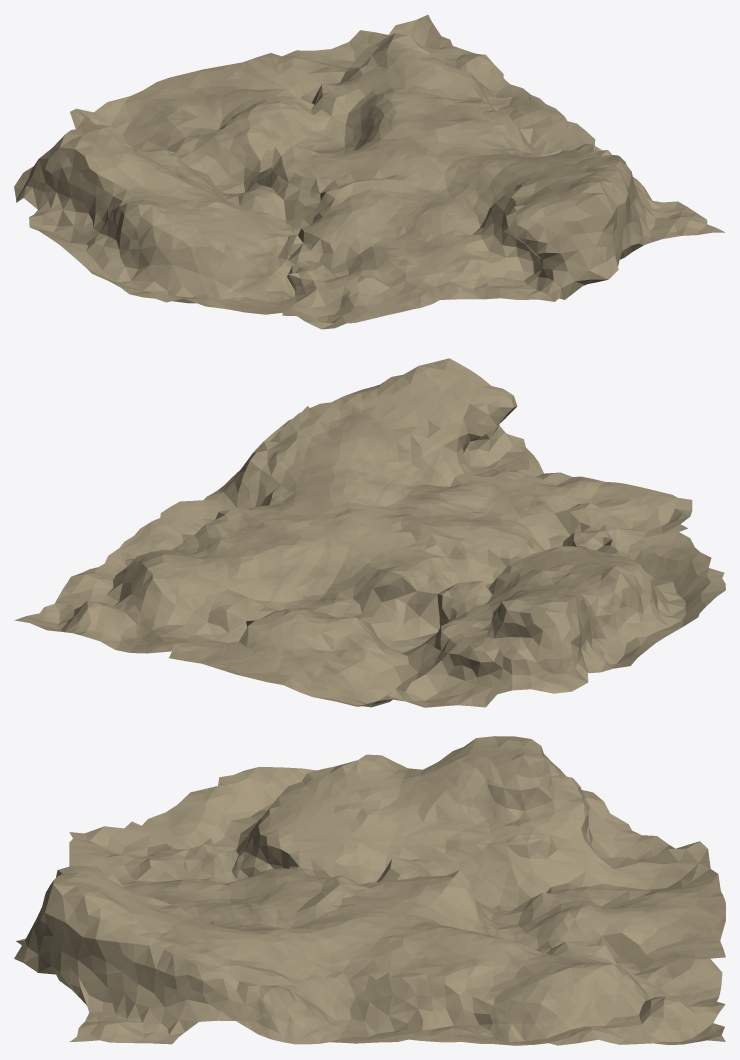
The model's file is island-1.glb.
3 views of the same model, one above another, from view 1: azimuth 30°, elevation 25°; view 2: azimuth 150°, elevation 25°; view 3: azimuth 270°, elevation 25° (orthographic). The views are drawn at different scales.
Visible parts, largest first — view 1: island-1; view 2: island-1; view 3: island-1.
Boxes of the visible parts, x1,y1,x2,y2 form: island-1: (14,14,724,329); island-1: (14,358,725,707); island-1: (14,736,725,1045).
Bounding box in the file's own units: 95.47 × 19.09 × 104.
Materials: 1 (1 with a texture image).
